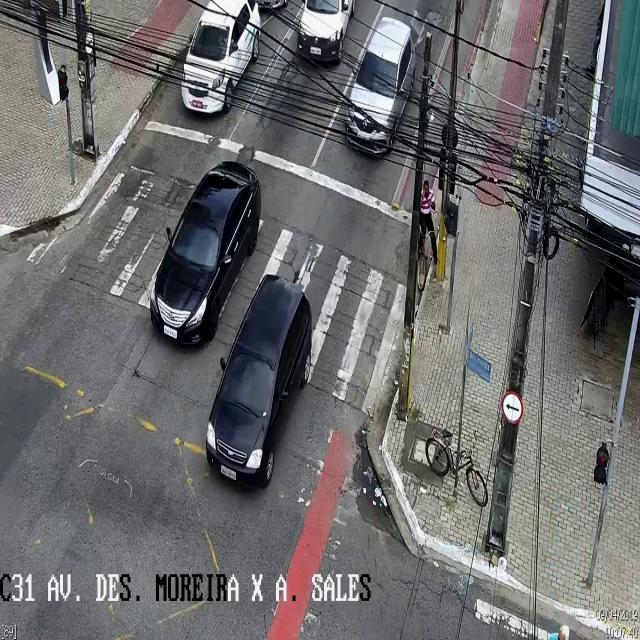Car: (205, 272, 313, 494), (149, 161, 263, 347), (344, 14, 414, 159), (180, 1, 260, 119), (298, 0, 352, 58)
